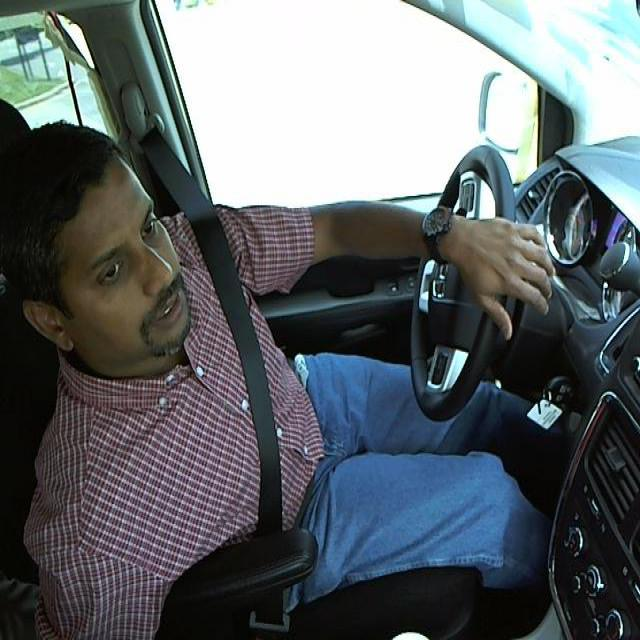seatbelt: (177, 189, 284, 411)
